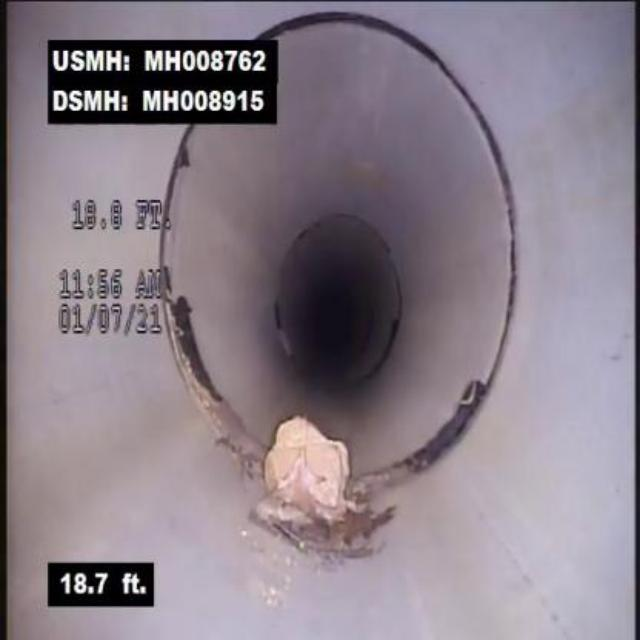Debris: (231, 389, 405, 546)
